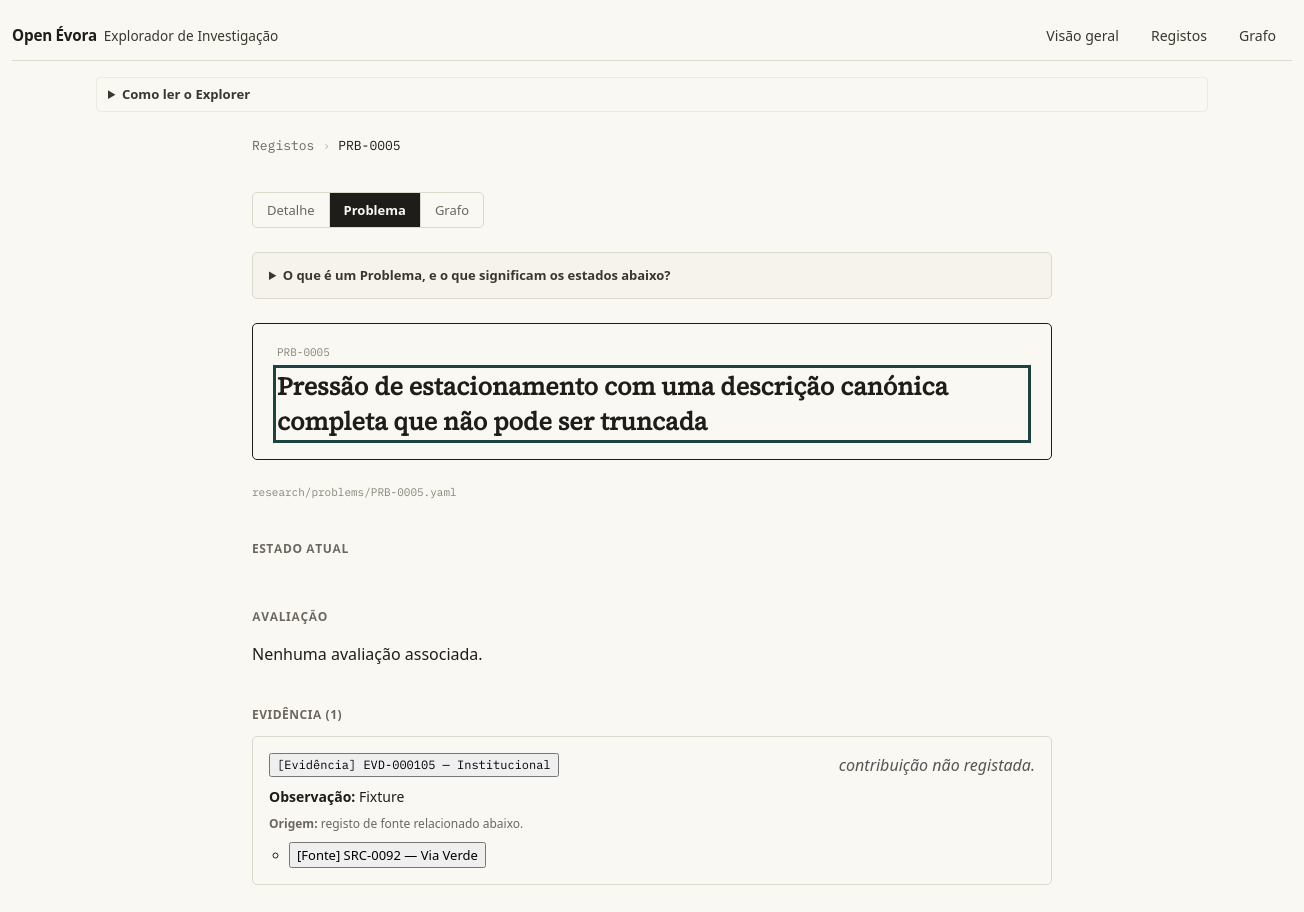
Test: Explorer — Problem view (RE-03) › Problem View's Registos breadcrumb clears the selected id and returns straight to the Records list, preserving search context
Step 1. Click the 2nd button "Registos" → (283, 146), box [252,136,314,156]
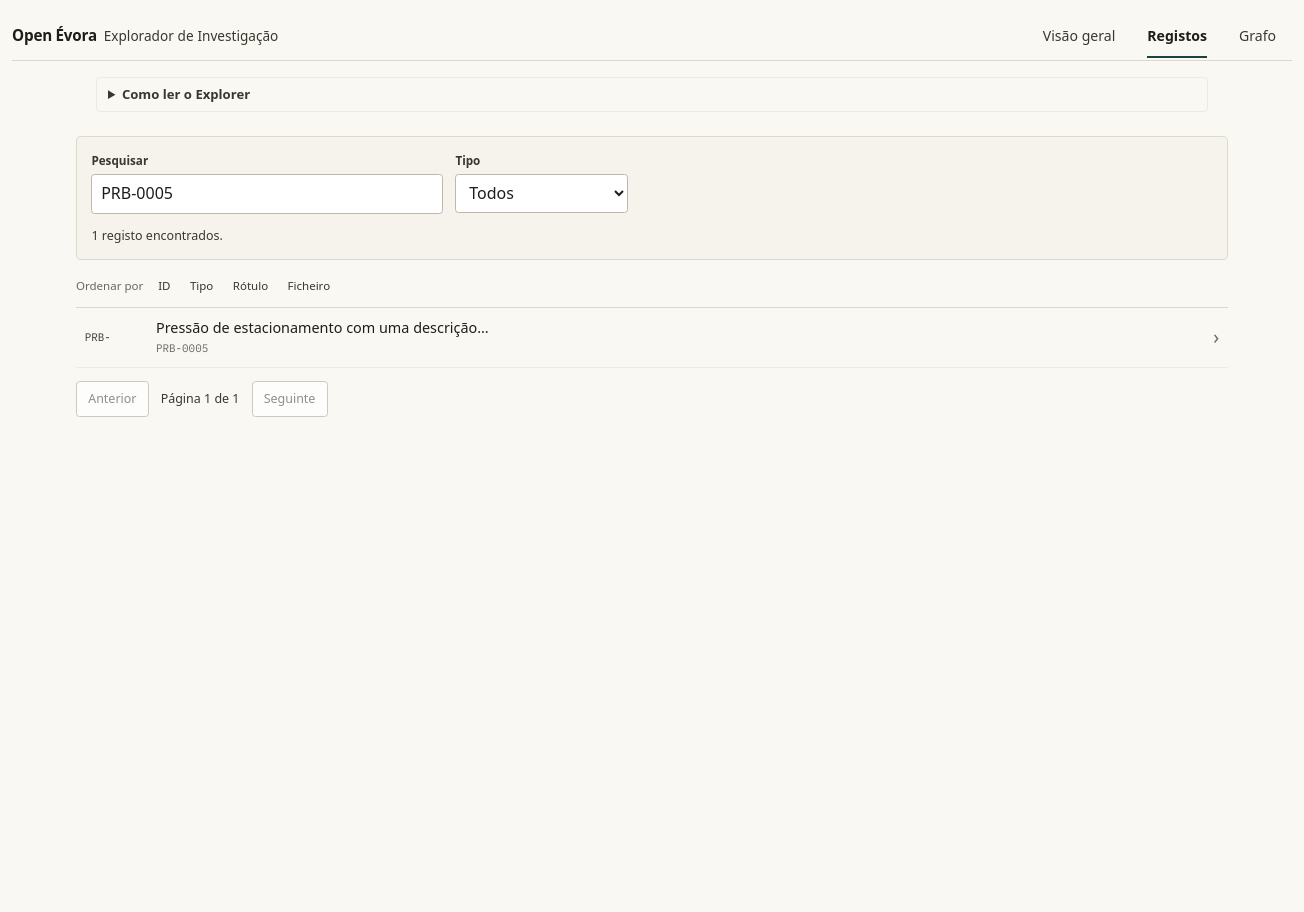
Expected: the search field labelled "Pesquisar" holds "PRB-0005", [91,174,443,214]
Expected: the button "PRB- Pressão de estacionamento com uma descrição… PRB-0005 ›" is shown, [76,308,1228,368]
